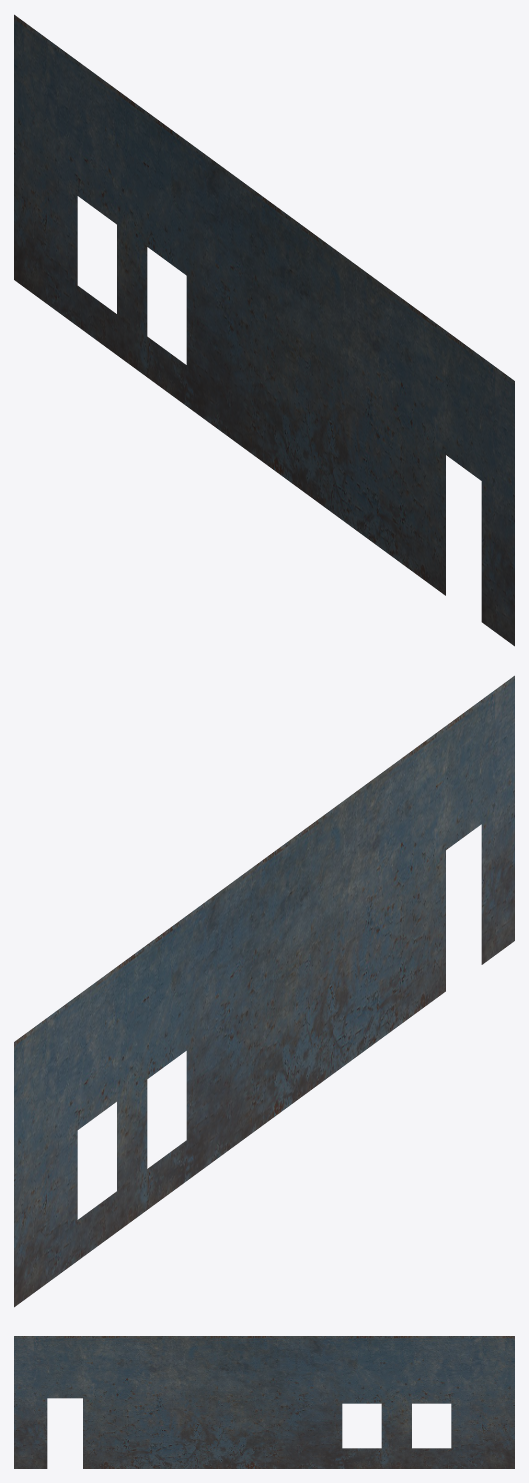
The model's file is RoofWall_03.FBX.
The picture shows the model from 3 angles, top to bottom: view 1: azimuth 30°, elevation 25°; view 2: azimuth 150°, elevation 25°; view 3: azimuth 270°, elevation 25°; orthographic projection. The views are drawn at different scales.
Parts seen in each view (by area): view 1: RoofWall_03; view 2: RoofWall_03; view 3: RoofWall_03.
Part boxes in pixels (x1=…): RoofWall_03: x1=14, y1=14, x2=514, y2=646; RoofWall_03: x1=14, y1=675, x2=514, y2=1307; RoofWall_03: x1=14, y1=1336, x2=514, y2=1468.
Size of the model in its own units: 0.00157 by 511 by 1748.
